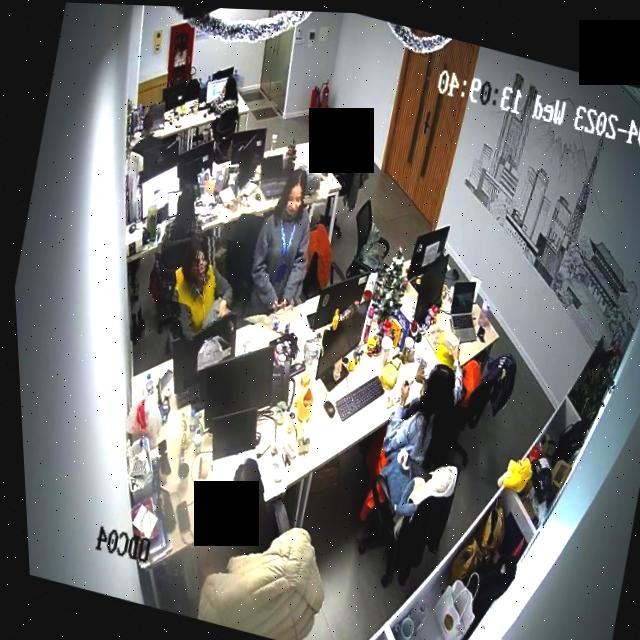person: (225, 153, 333, 336), (371, 345, 471, 477), (194, 449, 288, 581), (156, 225, 247, 348), (140, 173, 214, 304), (206, 68, 245, 120), (128, 105, 167, 154)
